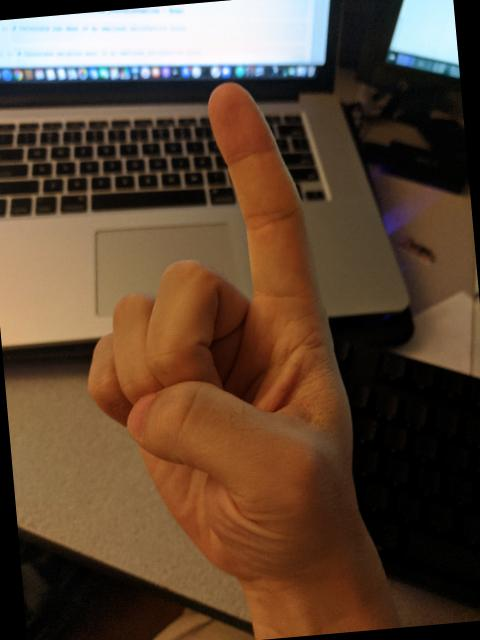D: (57, 69, 374, 602)
